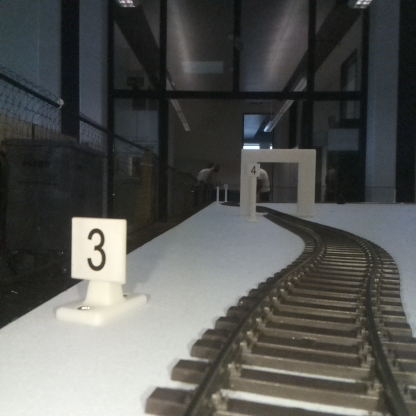white-info-4: (247, 162, 259, 221)
white-stop-3: (71, 219, 126, 320)
